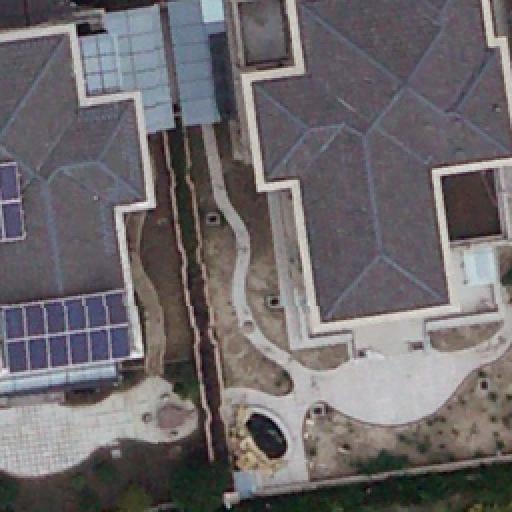solar-panel: (0, 291, 132, 373), (0, 165, 26, 243)
